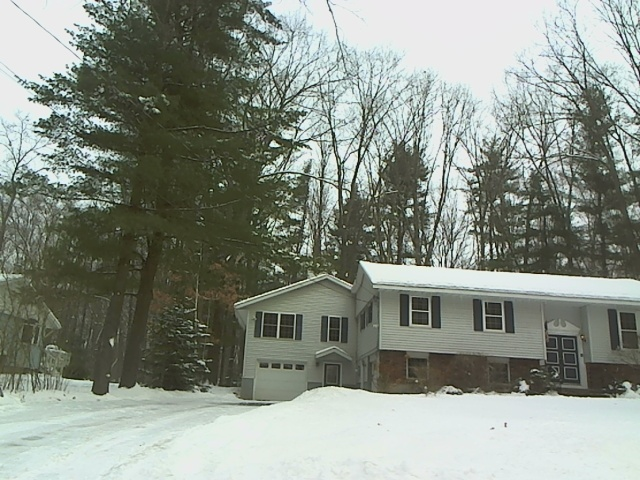Unploughed: (4, 399, 257, 469)
